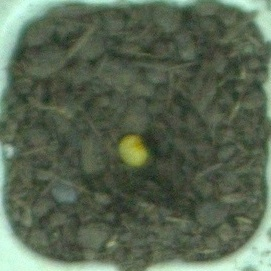chilli seed: (112, 132, 155, 170)
